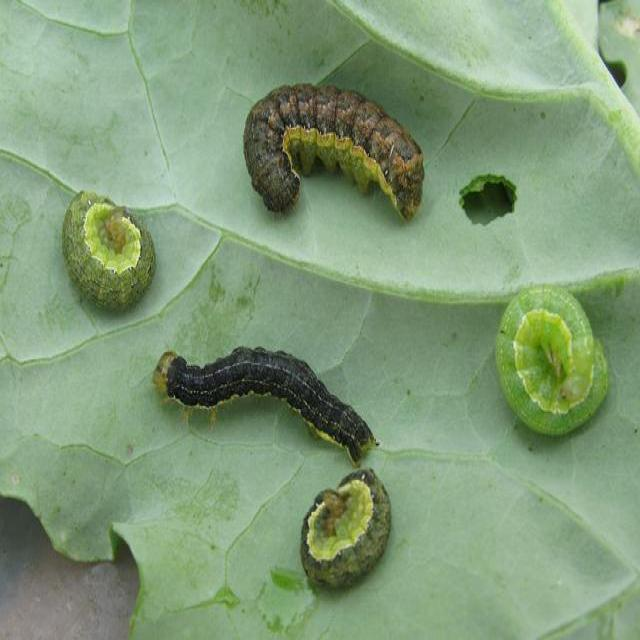armyworm: (244, 72, 441, 250), (156, 344, 376, 453), (499, 292, 618, 419), (69, 180, 161, 304), (305, 464, 385, 565)
